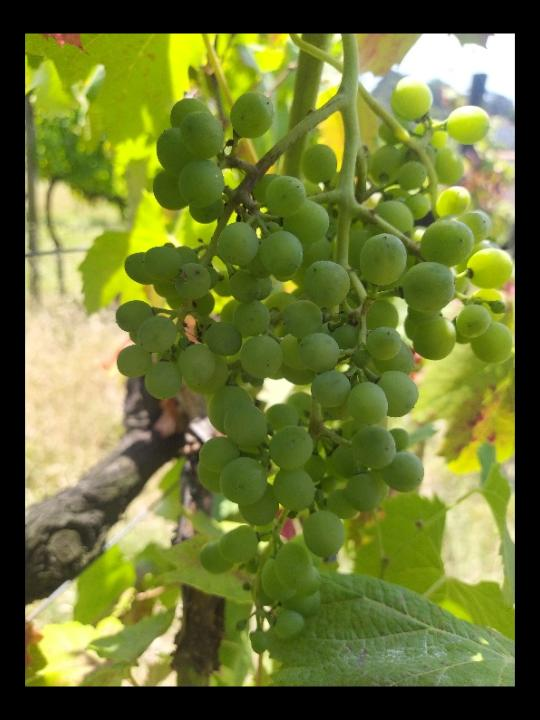grape: (113, 73, 512, 656)
